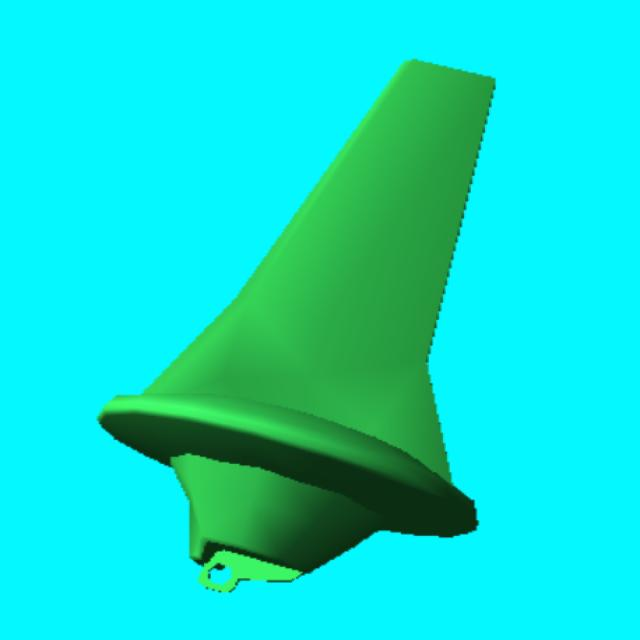GreenBuoy: (101, 61, 492, 592)
